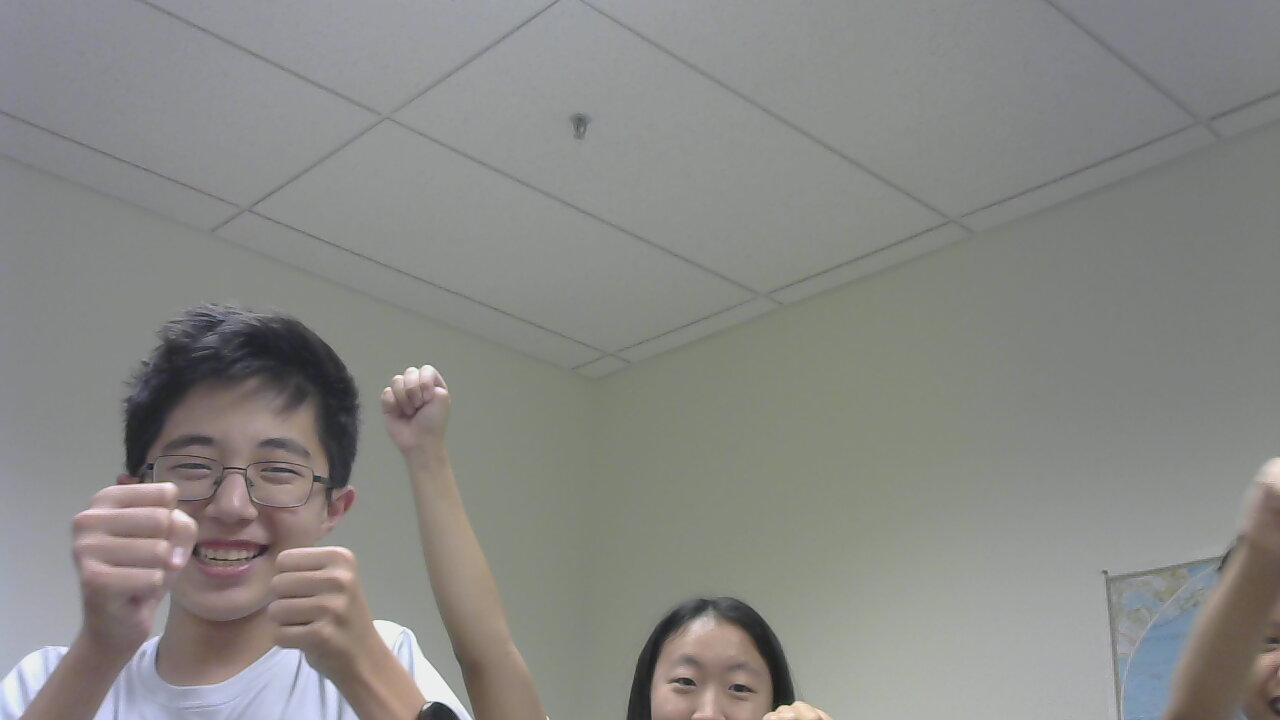fist: (78, 472, 199, 669), (257, 547, 391, 666), (368, 362, 477, 473)
